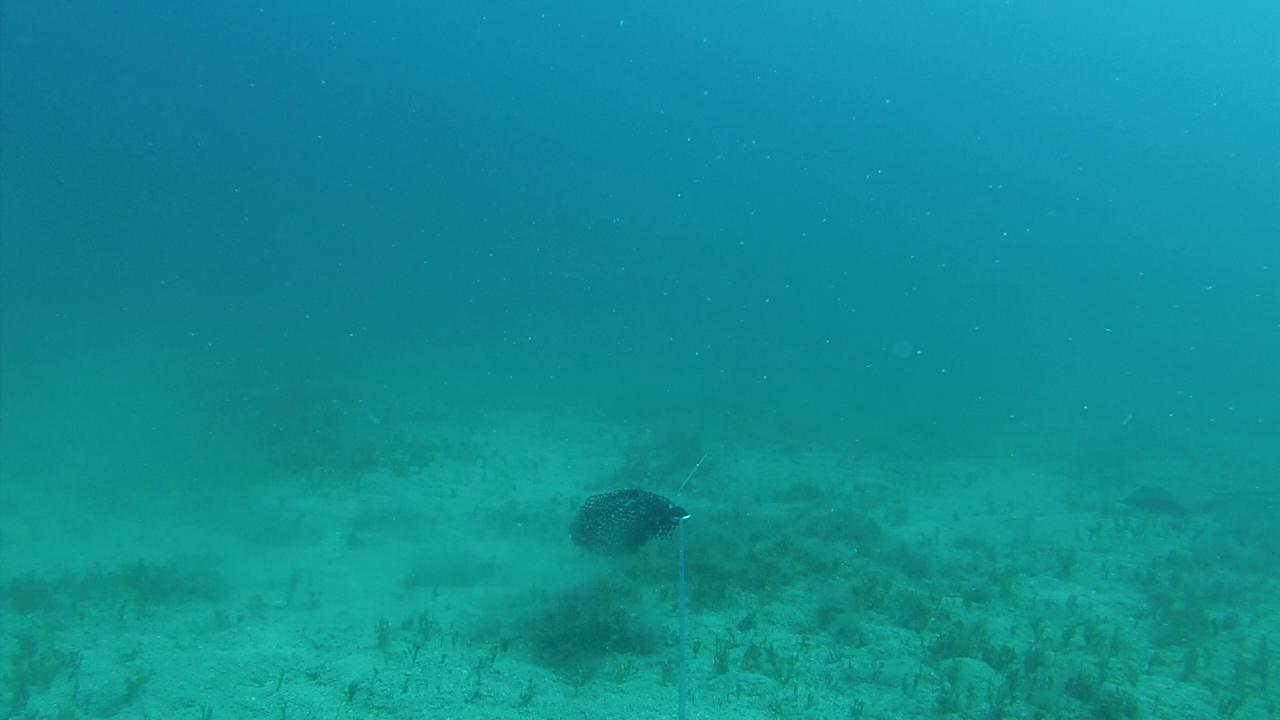dasyatis: (1120, 481, 1280, 510)
